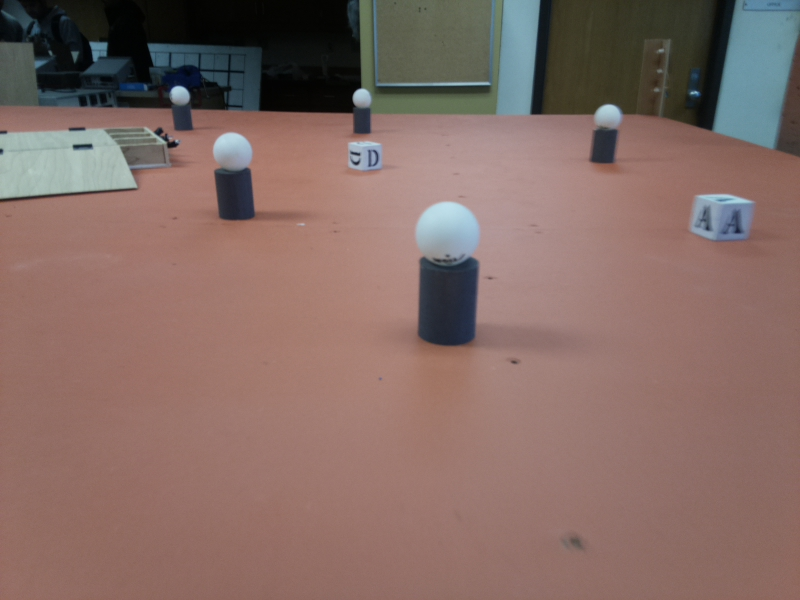blockA: (690, 193, 755, 239)
blockD: (349, 140, 383, 171)
obstacle: (412, 201, 483, 349), (212, 131, 257, 222), (589, 103, 624, 167), (351, 89, 375, 134), (171, 85, 193, 133)
slope: (1, 146, 132, 202)
